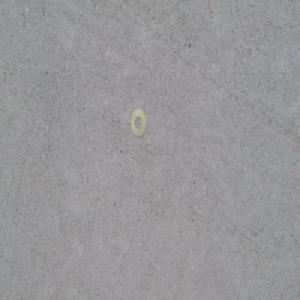Washer: (129, 108, 146, 138)
